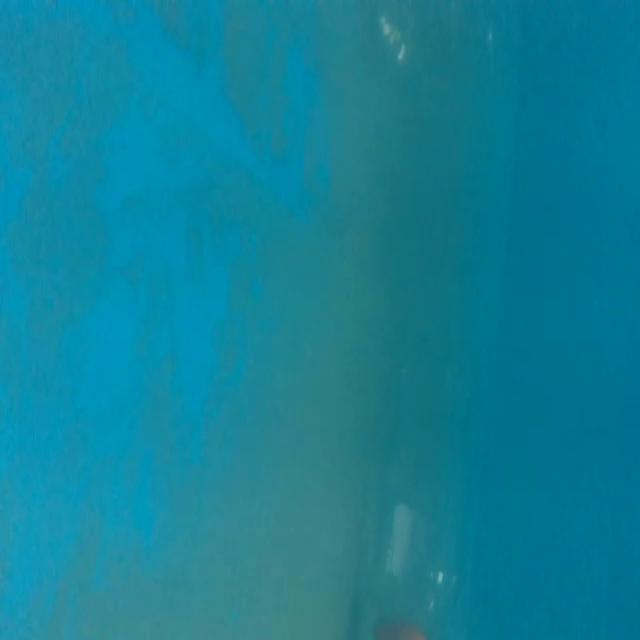plastic bottle: (356, 330, 480, 640)
